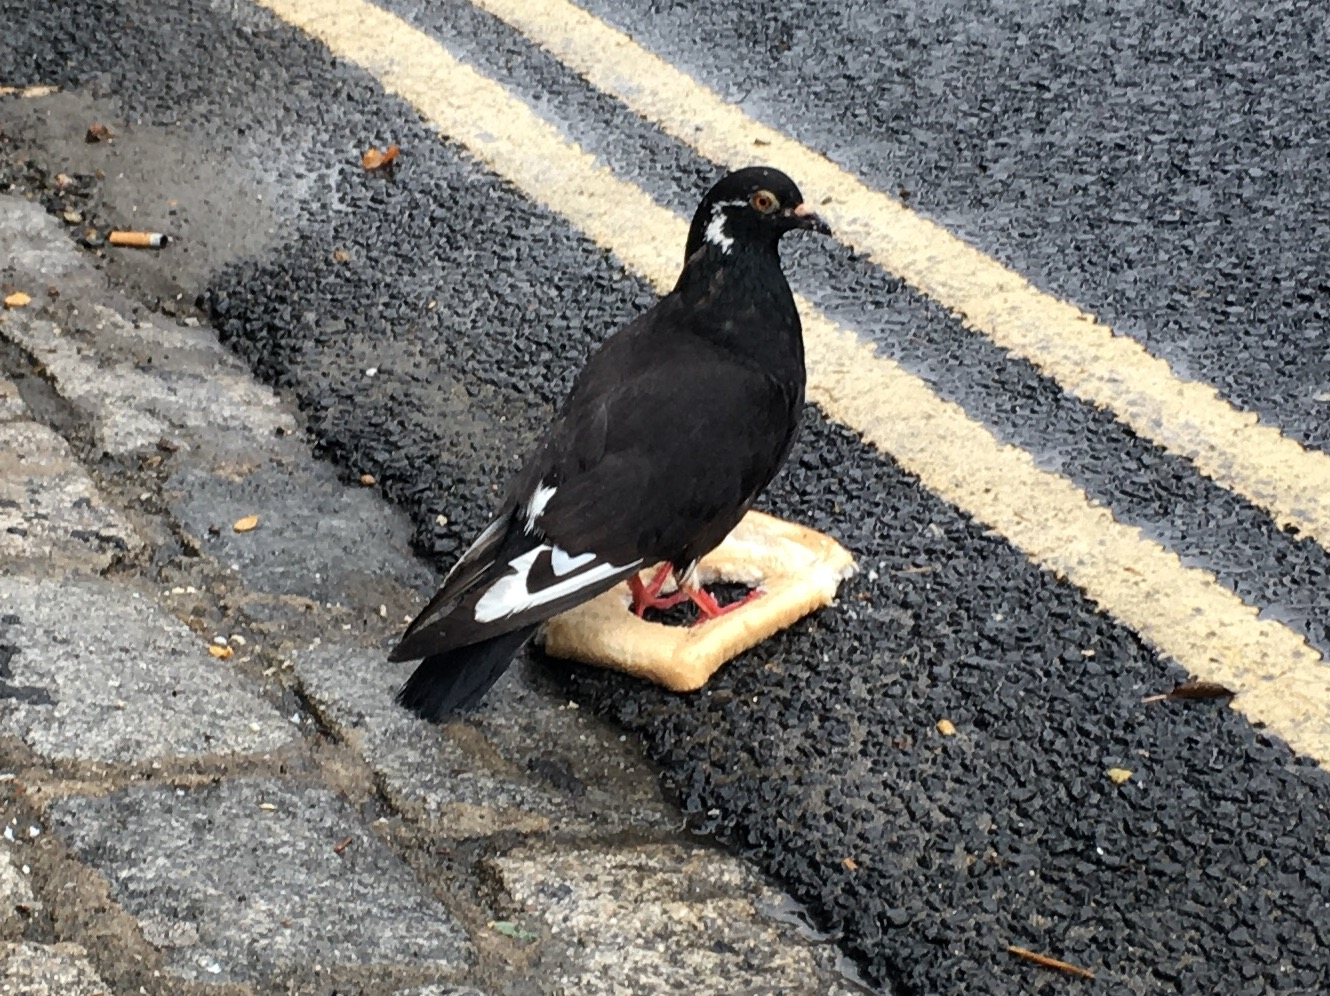slice of bread: (553, 625, 762, 691)
